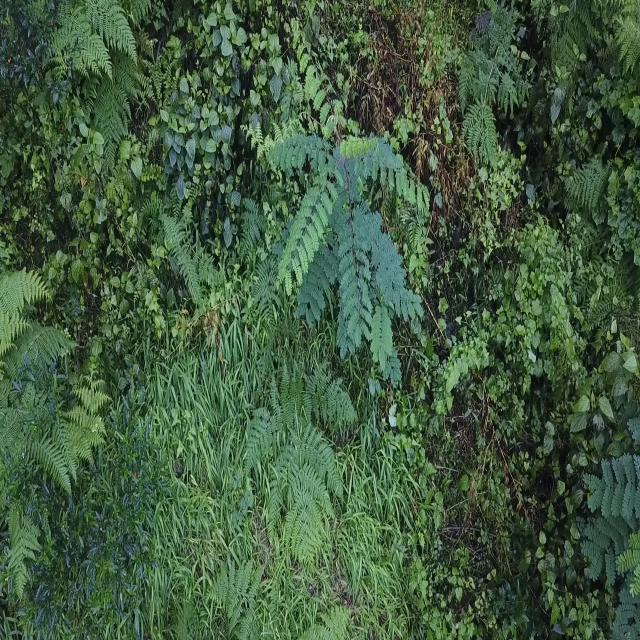Mysore-Thorn-Weed: (265, 27, 429, 380), (566, 393, 640, 640)
